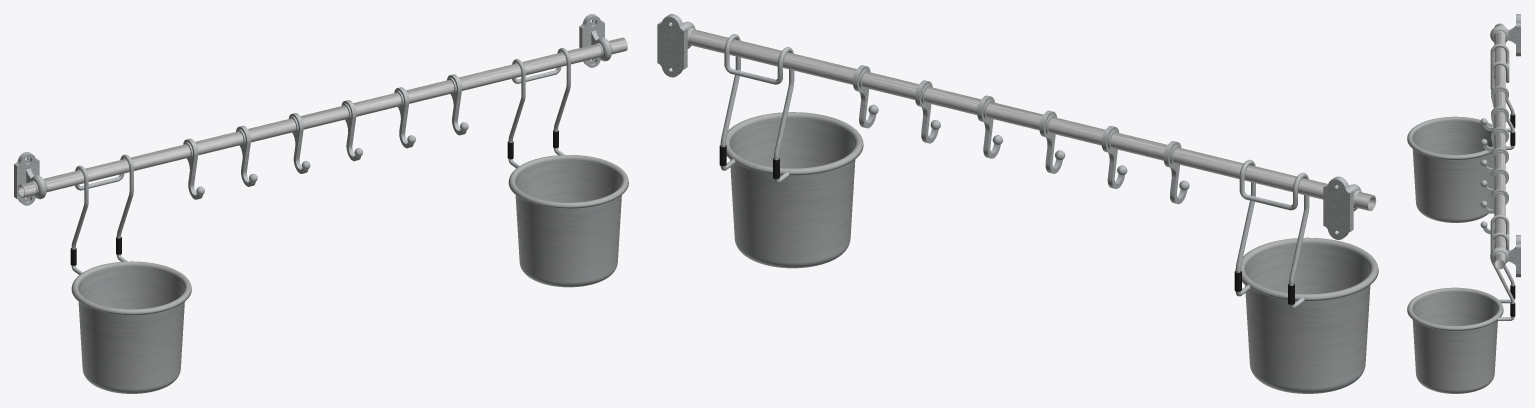
The model's file is 047 - stand divari ikea estil.glb.
The picture shows the model from 3 angles, left to right: view 1: azimuth 30°, elevation 25°; view 2: azimuth 150°, elevation 25°; view 3: azimuth 270°, elevation 25°; orthographic projection. The views are drawn at different scales.
Visible parts, largest first — view 1: Group#26 [100402] (×2), Group#29 [128893], [32447] (×2), Group#2 [100378], Group#182 [100365]; view 2: Group#26 [100402] (×2), Group#29 [128893], Group#7 [100390] (×6), [32447] (×2), Group#2 [100378], Group#182 [100365]; view 3: Group#26 [100402] (×2), Group#29 [128893], [32447] (×2), Group#7 [100390] (×6), Group#4 [100376] (×2), Group#2 [100378], Group#182 [100365].
Part boxes in pixels (x1,y1,x2,y2): Group#26 [100402] (×2): [71, 155, 628, 393]; Group#29 [128893]: [18, 37, 627, 198]; [32447] (×2): [71, 48, 602, 315]; Group#2 [100378]: [14, 152, 39, 205]; Group#182 [100365]: [579, 14, 604, 67]; Group#26 [100402] (×2): [725, 112, 1378, 393]; Group#29 [128893]: [671, 23, 1376, 211]; Group#7 [100390] (×6): [852, 65, 1187, 204]; [32447] (×2): [720, 34, 1332, 309]; Group#2 [100378]: [1323, 176, 1353, 239]; Group#182 [100365]: [657, 14, 687, 77]; Group#26 [100402] (×2): [1407, 116, 1503, 393]; Group#29 [128893]: [1494, 23, 1505, 269]; [32447] (×2): [1422, 43, 1514, 331]; Group#7 [100390] (×6): [1483, 85, 1508, 234]; Group#4 [100376] (×2): [1490, 26, 1508, 263]; Group#2 [100378]: [1516, 14, 1520, 56]; Group#182 [100365]: [1516, 235, 1520, 277].
Size of the model in its own units: 0.8 by 0.2667 by 0.163.
Materials: 6 (6 with a texture image).
